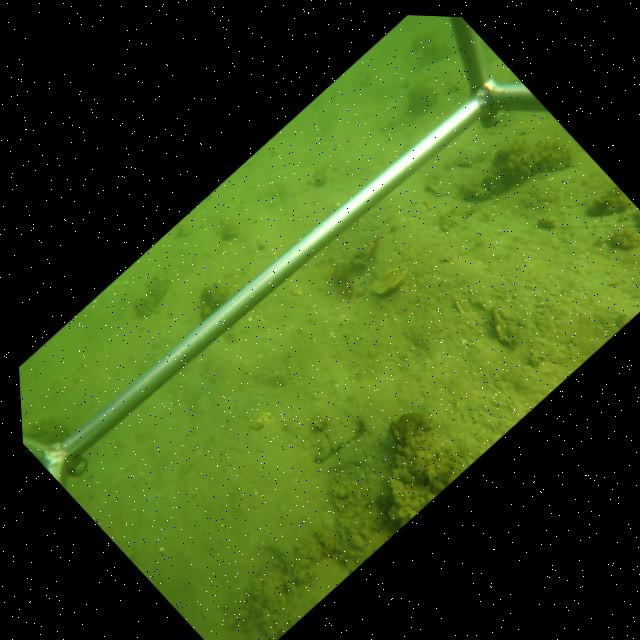Oyster-Closed: (424, 180, 447, 198)
Oyster-Indeterminate: (492, 304, 511, 348)
